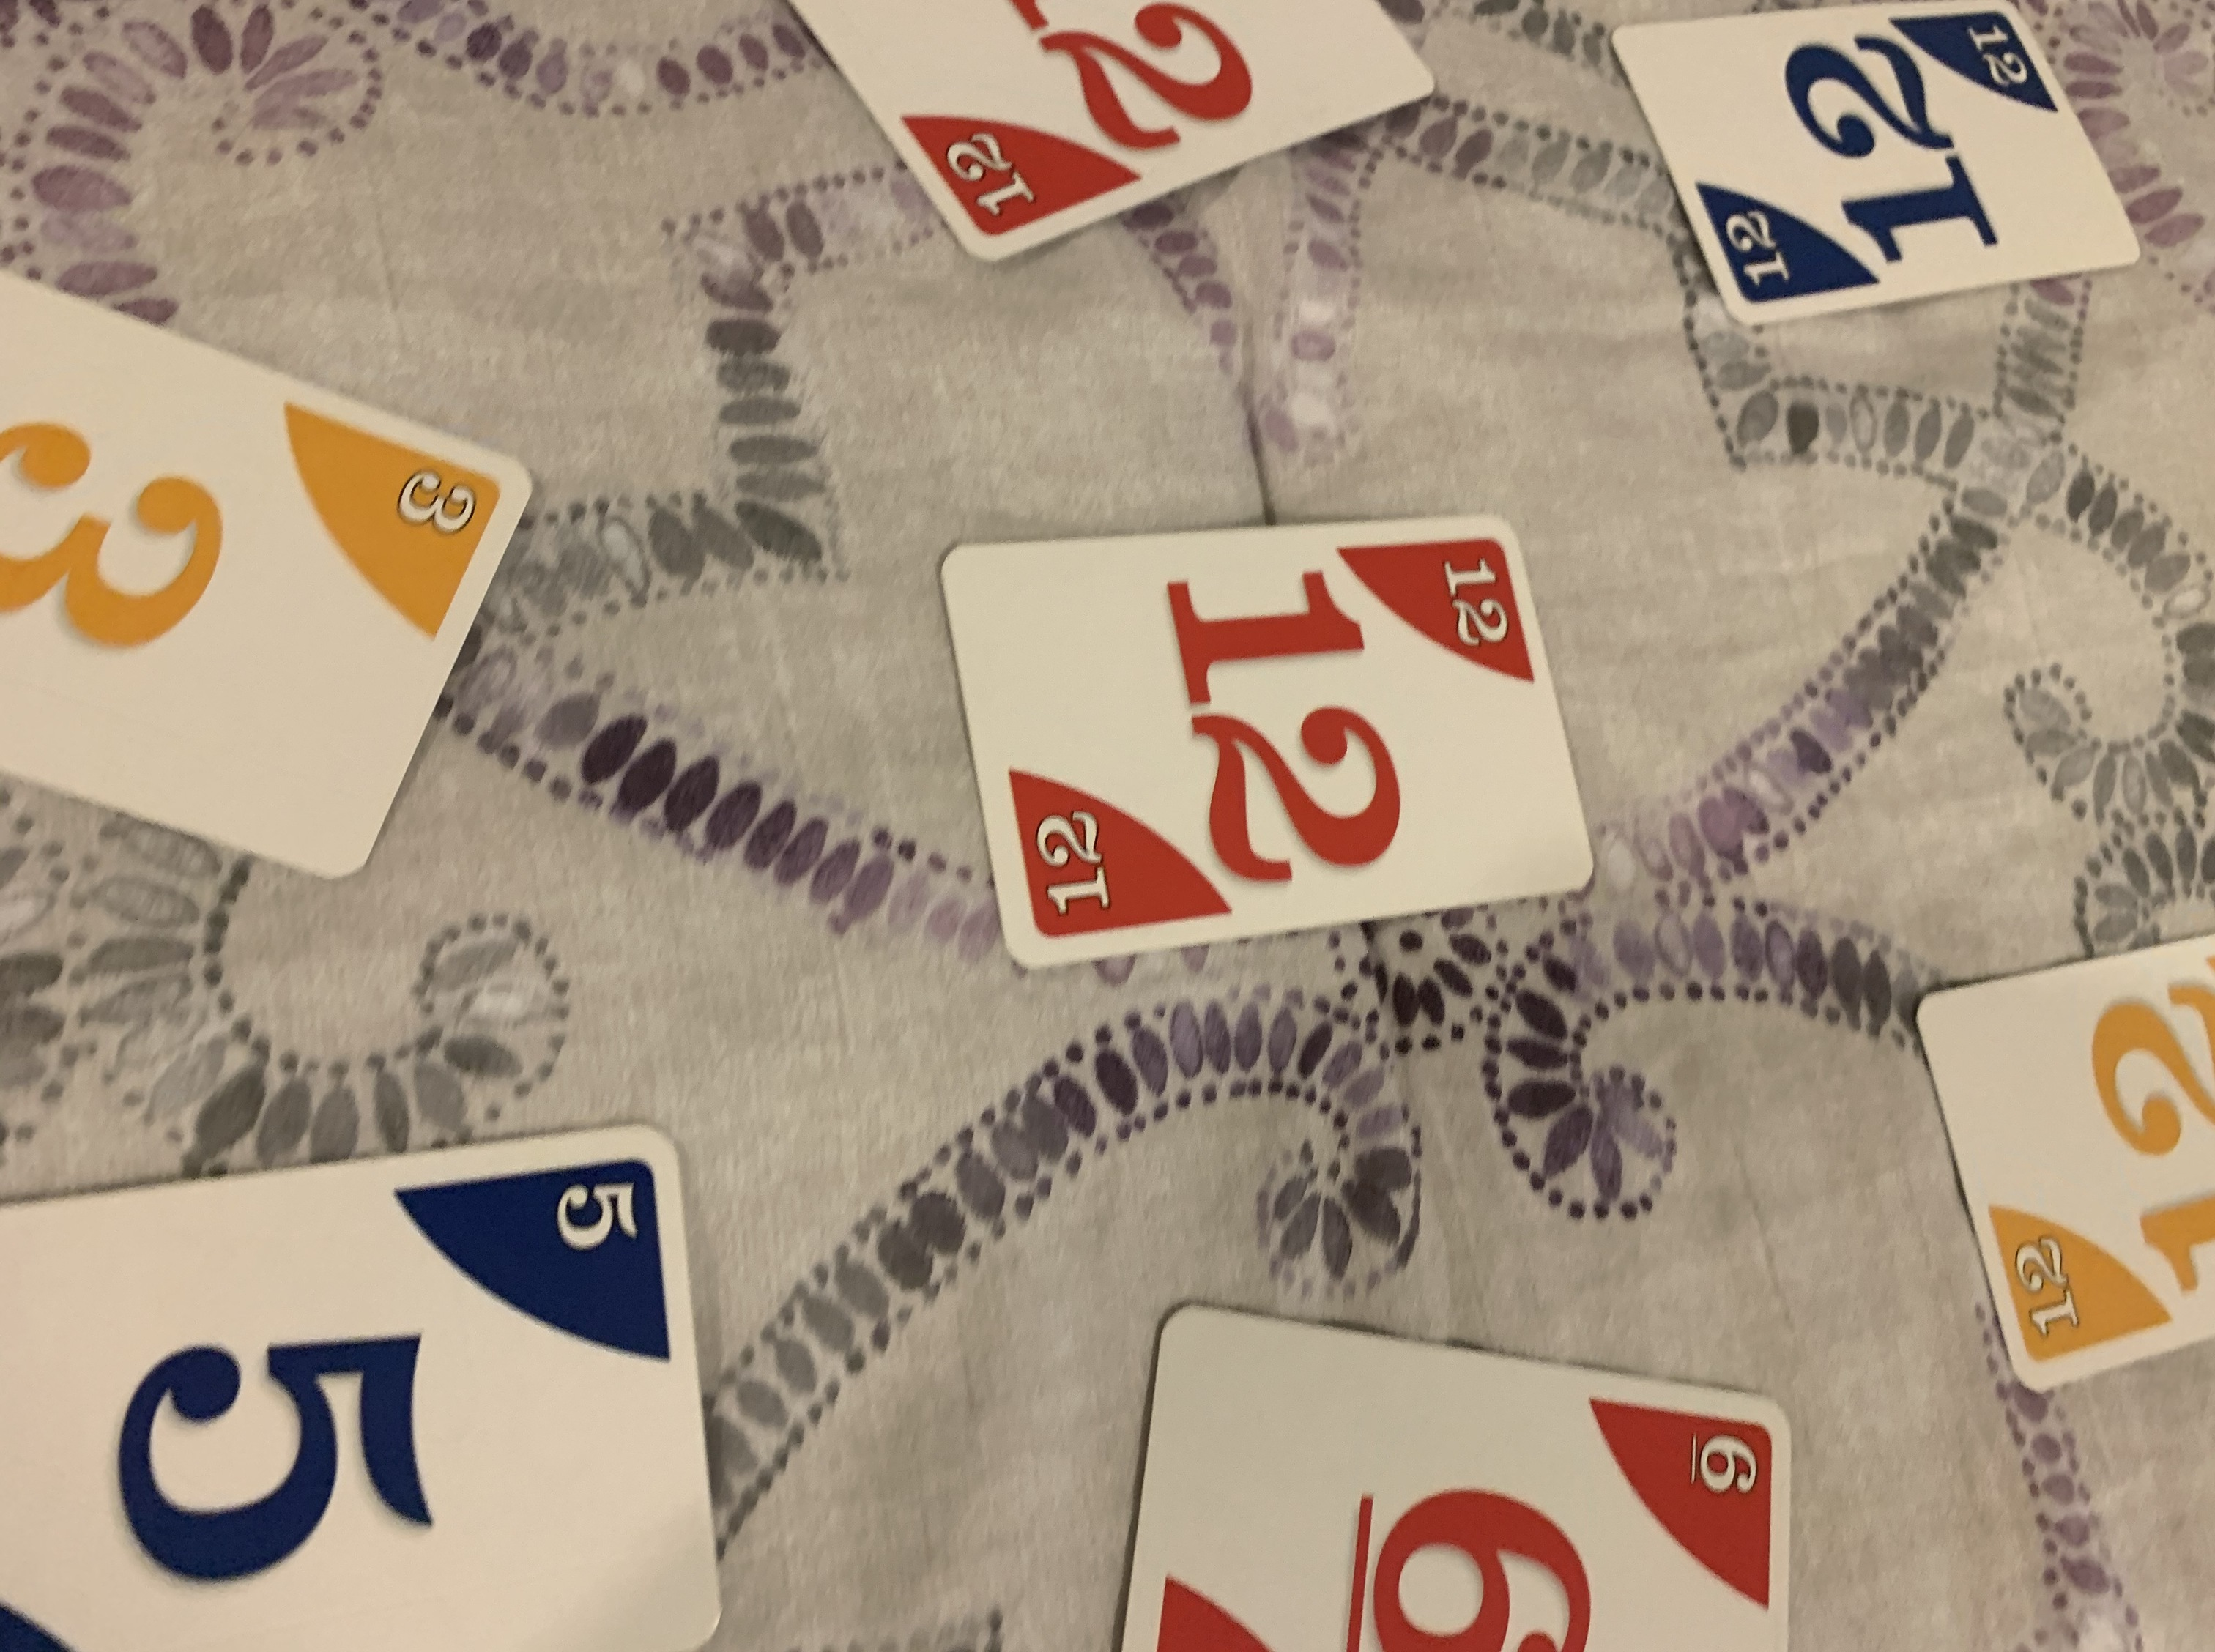five: (0, 1121, 727, 1649)
three: (0, 255, 535, 880)
twelve: (929, 507, 1599, 970)
